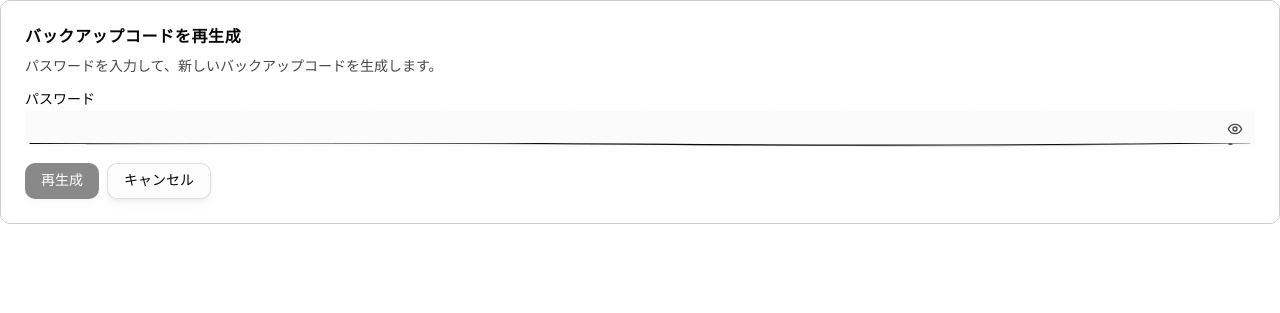
RegenerateBackupCodes › 送信処理 › 再生成失敗時にエラーメッセージを表示する
The image size is (1280, 313).
Type "wrongpass" into the password field labelled "パスワード".
click(640, 129); type("wrongpass")  # box 25,111 -> 1255,147
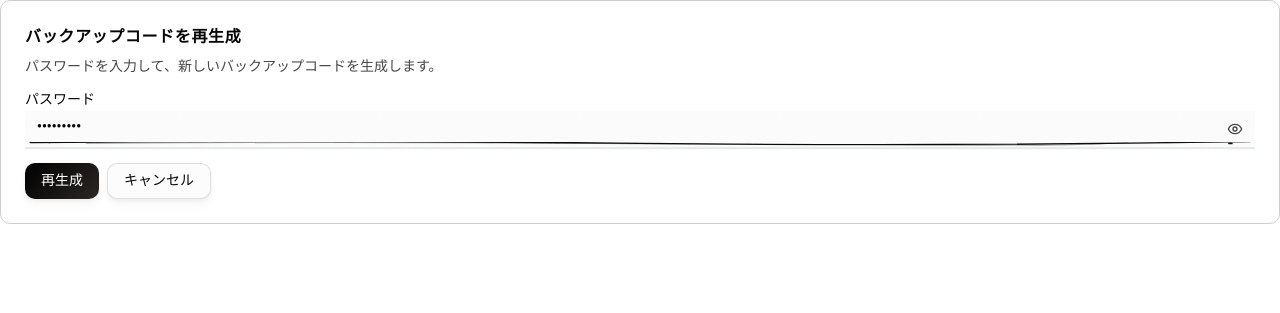
Click the button "再生成".
click(62, 181)  # box 25,163 -> 99,199
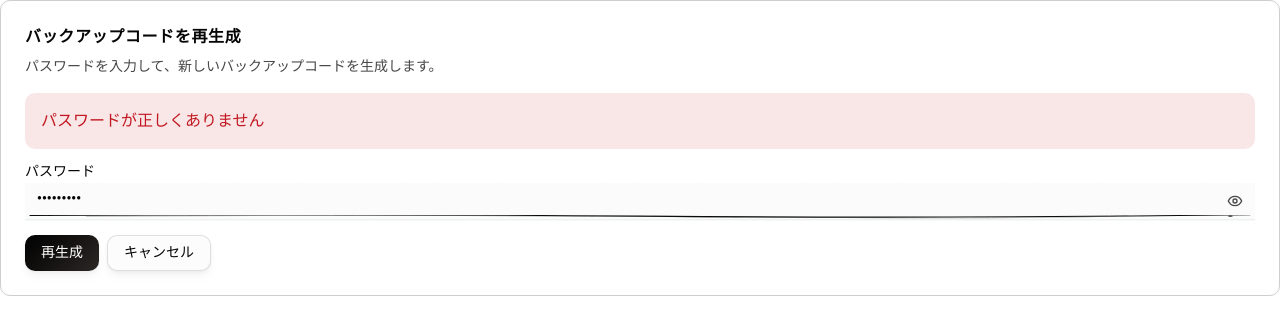
Now the text "パスワードが正しくありません" is shown, box 25,93 -> 1255,149
